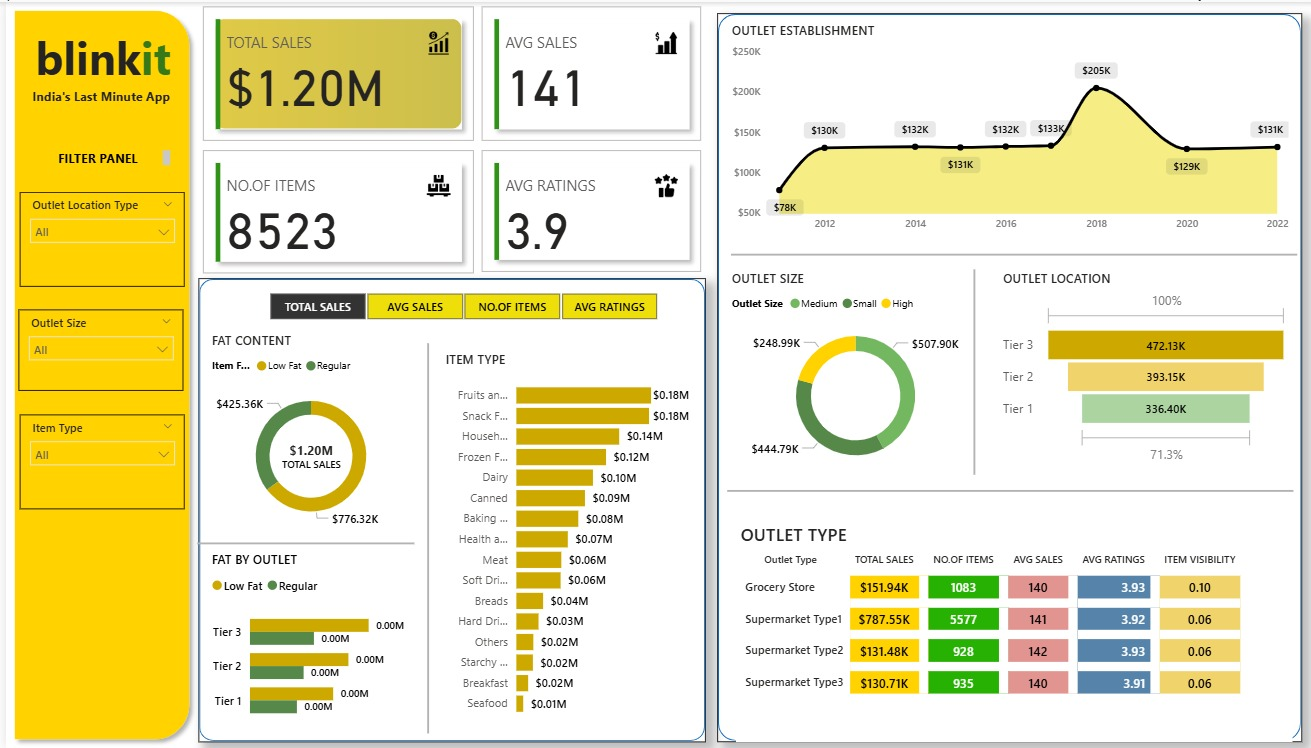

The page's visual inventory and layout, read from the dashboard file:
{"tool":"powerbi","page":{"name":"BLINK-IT DASHBOARD","canvas":[1400,800],"ordinal":0},"visuals":[{"type":"shape","box":[0,0,205.7,800],"z":0},{"type":"textbox","box":[22.9,21.4,162.9,74.3],"z":1000},{"type":"textbox","box":[18.6,87.1,167.1,28.6],"z":2000},{"type":"cardVisual","fields":{"Data":["BlinkIT Grocery Data.Avg Sales"]},"box":[505.4,0,245.3,154.2],"z":3000},{"type":"cardVisual","fields":{"Data":["BlinkIT Grocery Data.Total Sales","select"]},"box":[206.4,0,300.3,154.2],"z":4000},{"type":"cardVisual","fields":{"Data":["BlinkIT Grocery Data.No.of Items"]},"box":[206.4,154.2,300.3,142.1],"z":5000},{"type":"cardVisual","fields":{"Data":["BlinkIT Grocery Data.AVG RATINGS"]},"box":[505.4,154.2,245.3,140.8],"z":6000},{"type":"shape","box":[206.4,296.2,544.2,497.3],"z":7000},{"type":"donutChart","title":"FAT CONTENT","fields":{"Y":["BlinkIT Grocery Data.TOTAL SALES"],"Category":["BlinkIT Grocery Data.Item Fat Content"]},"box":[215.7,354.3,222.9,221.4],"z":8000},{"type":"slicer","fields":{"Values":["Metrics.Metrics"]},"box":[257.4,305.6,465.1,41.6],"z":9000},{"type":"cardVisual","fields":{"Data":["BlinkIT Grocery Data.TOTAL SALES"]},"box":[264.3,447.1,127.1,77.1],"z":10000},{"type":"clusteredBarChart","title":"FAT BY OUTLET","fields":{"Y":["BlinkIT Grocery Data.TOTAL SALES"],"Category":["BlinkIT Grocery Data.Outlet Location Type"],"Series":["BlinkIT Grocery Data.Item Fat Content"]},"box":[215.7,588.6,220,195.7],"z":11000},{"type":"shape","box":[205.7,555.7,232.9,48.6],"z":12000},{"type":"shape","box":[425.7,365.7,52.9,418.6],"z":13000},{"type":"barChart","title":"ITEM TYPE","fields":{"Y":["BlinkIT Grocery Data.TOTAL SALES"],"Category":["BlinkIT Grocery Data.Item Type"]},"box":[467.1,374.3,271.4,401.4],"z":14000},{"type":"shape","box":[762.9,11.4,627.1,781.4],"z":16000},{"type":"lineChart","title":"OUTLET ESTABLISHMENT","fields":{"Y":["BlinkIT Grocery Data.TOTAL SALES"],"Category":["BlinkIT Grocery Data.Outlet Establishment Year"]},"box":[772.9,21.4,607.1,232.9],"z":17000},{"type":"shape","box":[777.1,247.1,607.1,48.6],"z":18000},{"type":"donutChart","title":"OUTLET SIZE","fields":{"Y":["BlinkIT Grocery Data.TOTAL SALES"],"Category":["BlinkIT Grocery Data.Outlet Size"]},"box":[772.9,287.1,275.7,225.7],"z":19000},{"type":"shape","box":[1011.4,287.1,52.9,220],"z":20000},{"type":"funnel","title":"OUTLET LOCATION","fields":{"Y":["Sum(BlinkIT Grocery Data.Sales)"],"Category":["BlinkIT Grocery Data.Outlet Location Type"]},"box":[1064.3,287.1,315.7,212.9],"z":21000},{"type":"shape","box":[772.9,500,607.1,48.6],"z":22000},{"type":"pivotTable","title":"OUTLET TYPE","fields":{"Rows":["BlinkIT Grocery Data.Outlet Type"],"Values":["BlinkIT Grocery Data.TOTAL SALES","BlinkIT Grocery Data.NO.OF ITEMS","BlinkIT Grocery Data.AVG SALES","BlinkIT Grocery Data.AVG RATINGS","Avg(BlinkIT Grocery Data.Item Visibility)"]},"box":[782.9,557.1,597.1,235.7],"z":23000},{"type":"slicer","fields":{"Values":["BlinkIT Grocery Data.Outlet Location Type"]},"box":[14.3,204.3,177.1,101.4],"z":24000},{"type":"slicer","fields":{"Values":["BlinkIT Grocery Data.Outlet Size"]},"box":[12.9,330,177.1,87.1],"z":25000},{"type":"slicer","fields":{"Values":["BlinkIT Grocery Data.Item Type"]},"box":[14.3,442.9,177.1,101.4],"z":26000},{"type":"textbox","box":[24.3,154.3,157.1,25.7],"z":27000}]}

Visuals, with their boxes in screenshot pixels (x1, y1, x2, y2), scaled from the page's 1400x800 canvas onto the 1311x748 screenshot:
shape: box(0, 0, 193, 747)
textbox: box(21, 20, 174, 89)
textbox: box(17, 81, 174, 108)
cardVisual - BlinkIT Grocery Data.Avg Sales: box(473, 0, 703, 144)
cardVisual - BlinkIT Grocery Data.Total Sales x select: box(193, 0, 474, 144)
cardVisual - BlinkIT Grocery Data.No.of Items: box(193, 144, 474, 277)
cardVisual - BlinkIT Grocery Data.AVG RATINGS: box(473, 144, 703, 276)
shape: box(193, 277, 703, 742)
"FAT CONTENT" donutChart: box(202, 331, 411, 538)
slicer - Metrics.Metrics: box(241, 286, 677, 325)
cardVisual - BlinkIT Grocery Data.TOTAL SALES: box(247, 418, 367, 490)
"FAT BY OUTLET" clusteredBarChart: box(202, 550, 408, 733)
shape: box(193, 520, 411, 565)
shape: box(399, 342, 448, 733)
"ITEM TYPE" barChart: box(437, 350, 692, 725)
shape: box(714, 11, 1302, 741)
"OUTLET ESTABLISHMENT" lineChart: box(724, 20, 1292, 238)
shape: box(728, 231, 1296, 276)
"OUTLET SIZE" donutChart: box(724, 268, 982, 479)
shape: box(947, 268, 997, 474)
"OUTLET LOCATION" funnel: box(997, 268, 1292, 468)
shape: box(724, 468, 1292, 513)
"OUTLET TYPE" pivotTable: box(733, 521, 1292, 741)
slicer - BlinkIT Grocery Data.Outlet Location Type: box(13, 191, 179, 286)
slicer - BlinkIT Grocery Data.Outlet Size: box(12, 309, 178, 390)
slicer - BlinkIT Grocery Data.Item Type: box(13, 414, 179, 509)
textbox: box(23, 144, 170, 168)
